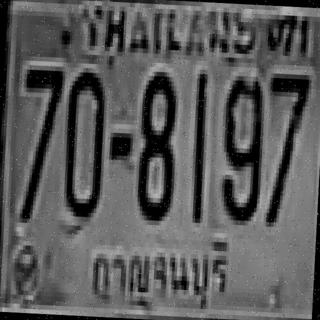N00: (60, 67, 106, 218)
N01: (188, 70, 208, 218)
N07: (261, 69, 310, 224), (17, 63, 63, 218)
N08: (134, 66, 178, 217)
N09: (218, 71, 264, 222)
P17: (82, 227, 238, 314)
